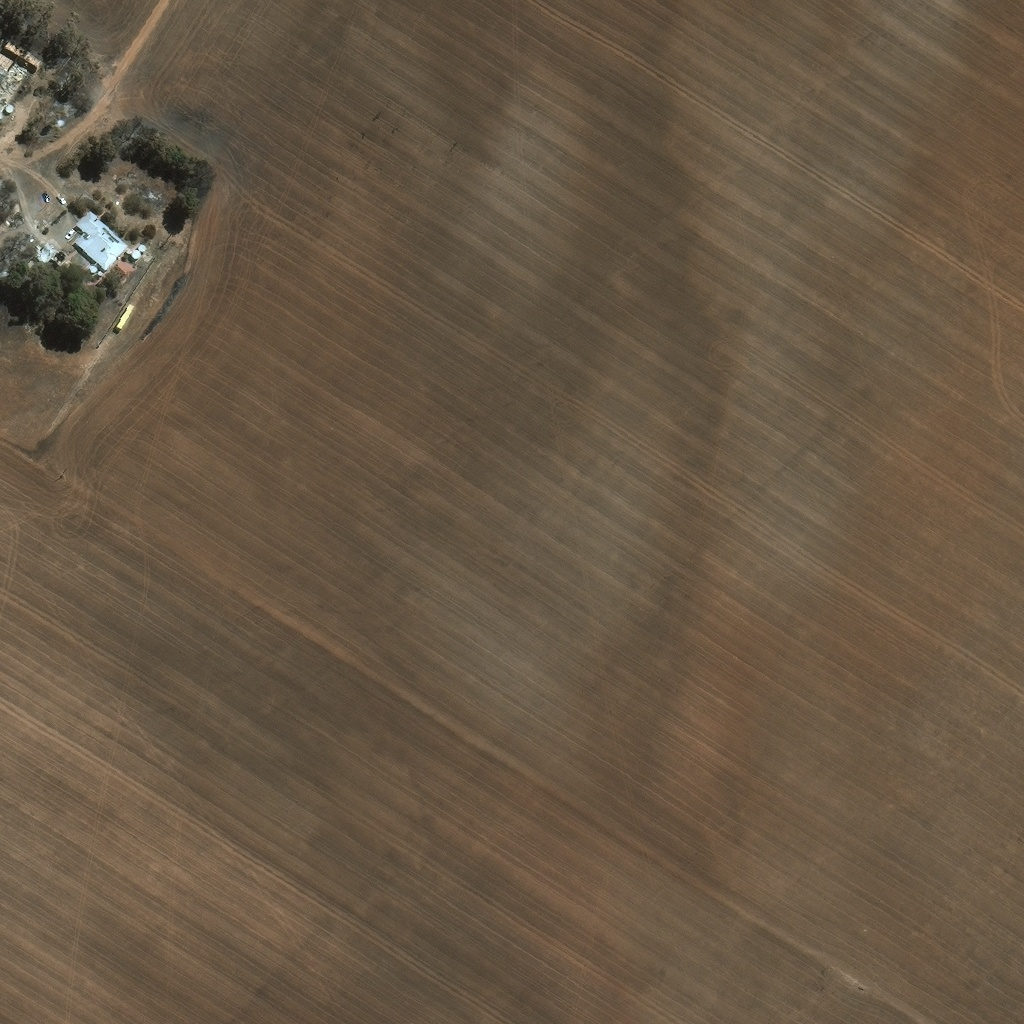0 no-damage: (73, 214, 129, 276), (4, 106, 14, 115), (130, 255, 140, 264), (136, 247, 146, 256), (89, 269, 96, 277)
3 destroyed: (0, 39, 44, 115), (44, 254, 76, 286), (32, 245, 57, 270)
4 un-classified: (32, 268, 41, 277)
